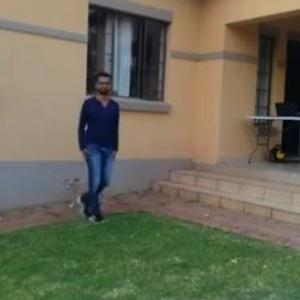follow: (70, 69, 120, 222)
